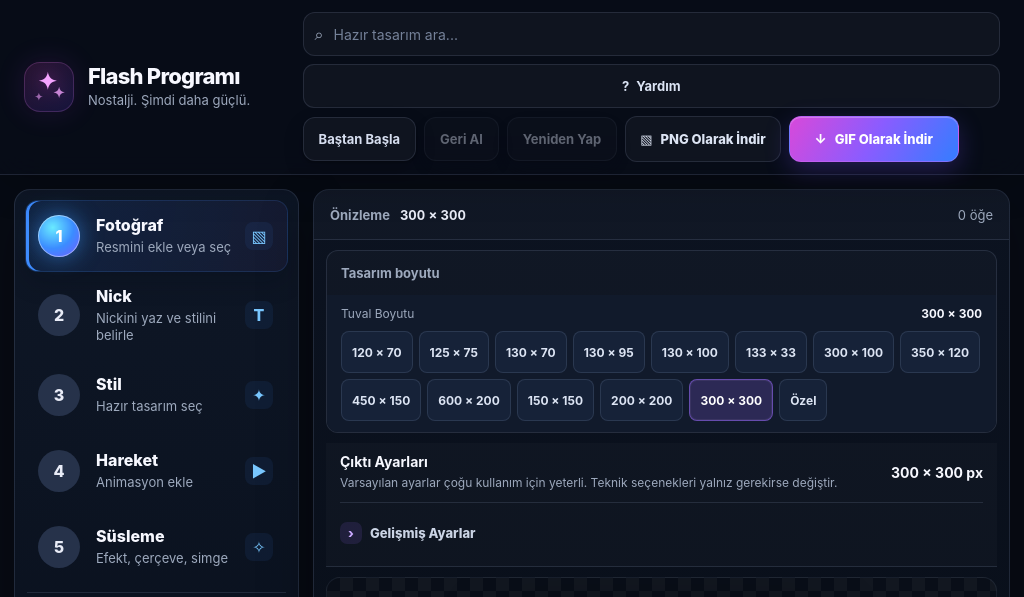
Scenario: EditorShell 2026 redesign › keeps primary workflow, export and help actions reachable in compact layouts
This screenshot has width=1024, height=597.
expect the button with aria-label "GIF İndir" is shown: met, box [789, 116, 959, 162]
expect the button with aria-label "PNG İndir" is shown: met, box [625, 116, 781, 162]
Click the button with aria-label "Yardımı Aç" at (651, 86), box [302, 64, 1000, 108]
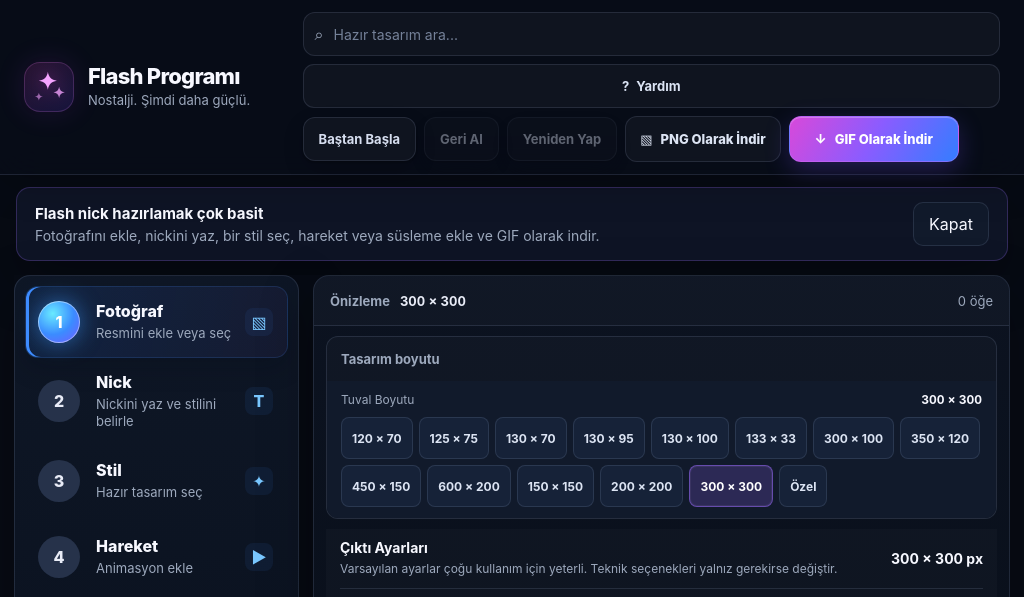
expect the dialog named "Yardım" is shown: met, box [16, 187, 1008, 261]
expect the button with aria-label "Yardımı kapat" is shown: met, box [913, 202, 989, 246]
